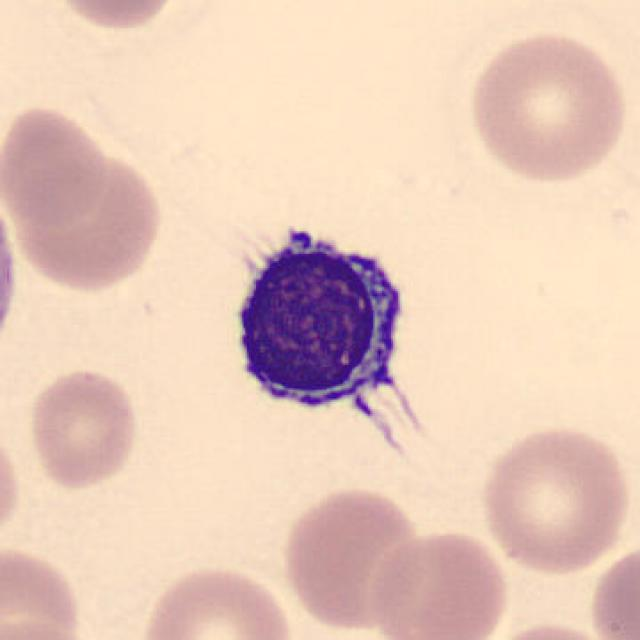Lymphocyte: (217, 210, 419, 435)
RBC: (462, 27, 631, 185), (474, 419, 634, 576), (7, 140, 169, 294), (278, 482, 430, 636), (366, 525, 512, 640), (25, 365, 142, 492), (0, 101, 110, 229), (135, 560, 298, 640), (0, 539, 87, 640), (584, 539, 638, 640), (46, 0, 190, 33), (0, 420, 25, 550), (476, 619, 618, 640)
